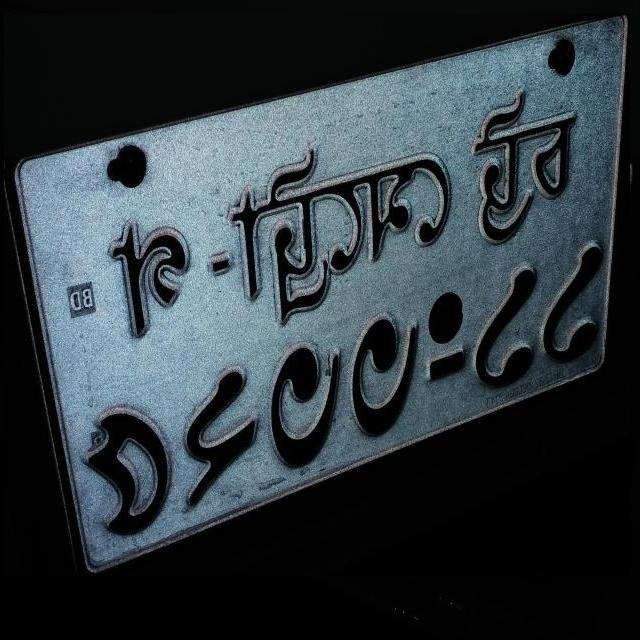numberplate: (4, 13, 630, 575)
